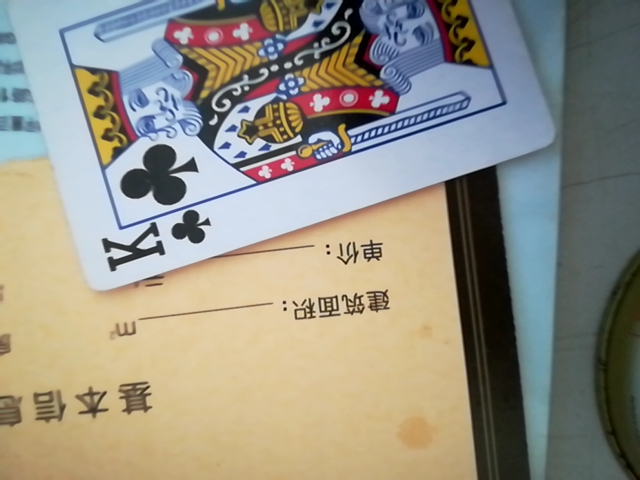mh k: (9, 1, 569, 288)
